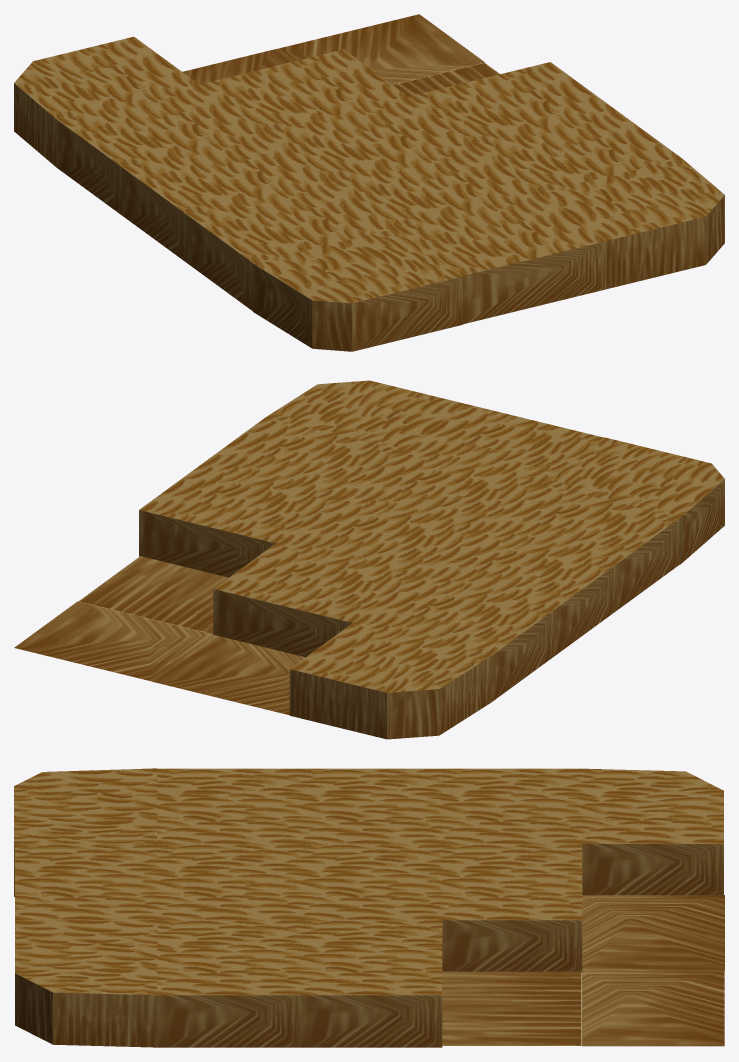
The model's file is Fields.fbx.
The picture shows the model from 3 angles, top to bottom: view 1: azimuth 30°, elevation 25°; view 2: azimuth 150°, elevation 25°; view 3: azimuth 270°, elevation 25°; orthographic projection. The views are drawn at different scales.
Parts seen in each view (by area): view 1: field; view 2: field; view 3: field.
Part boxes in pixels (box(x1,y1,x2,y2)): field: box(14, 14, 724, 351); field: box(14, 380, 724, 739); field: box(14, 768, 724, 1047).
Size of the model in its own units: 440 by 47.21 by 582.
Materials: 1 (1 with a texture image).
